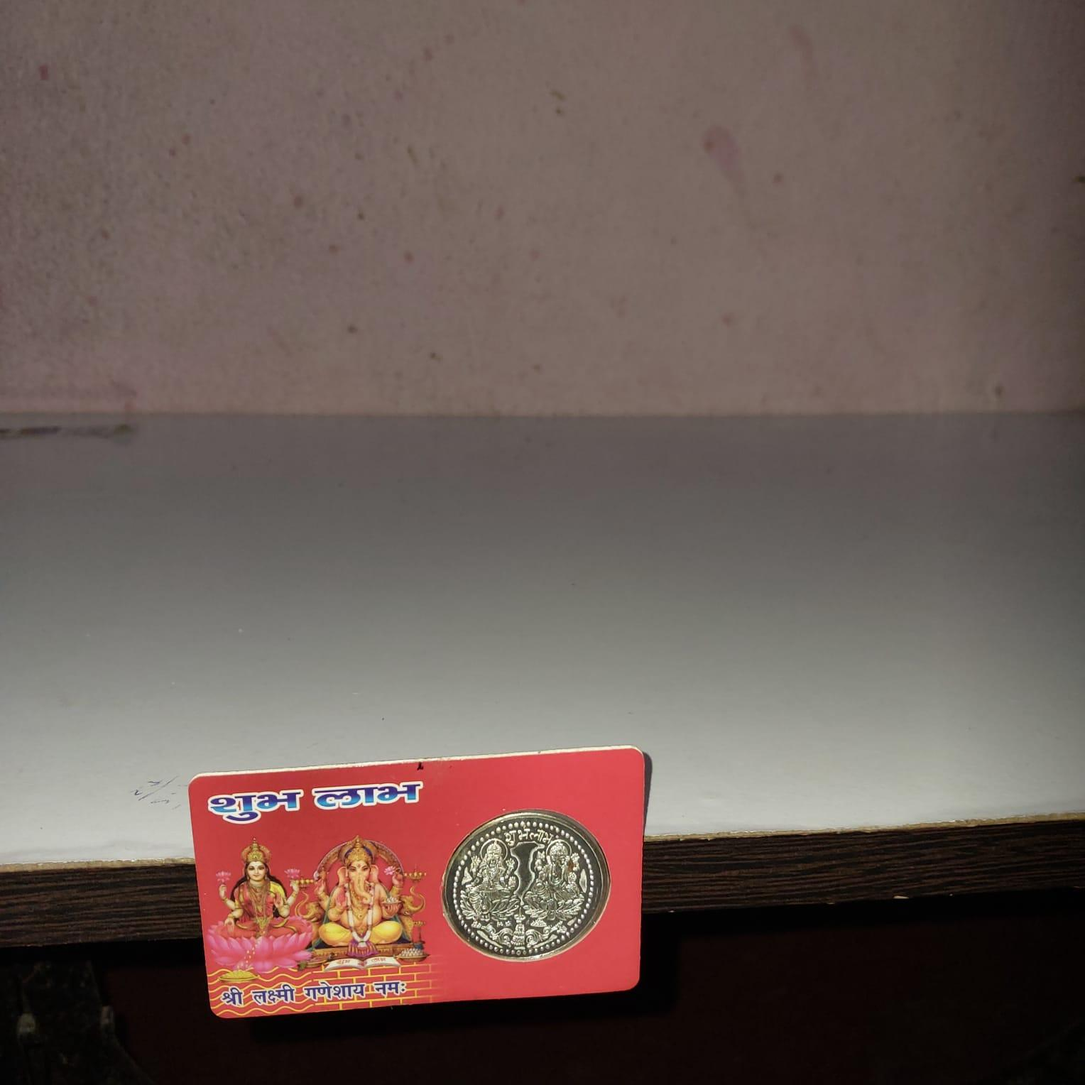blessing_card: (190, 740, 672, 1021)
